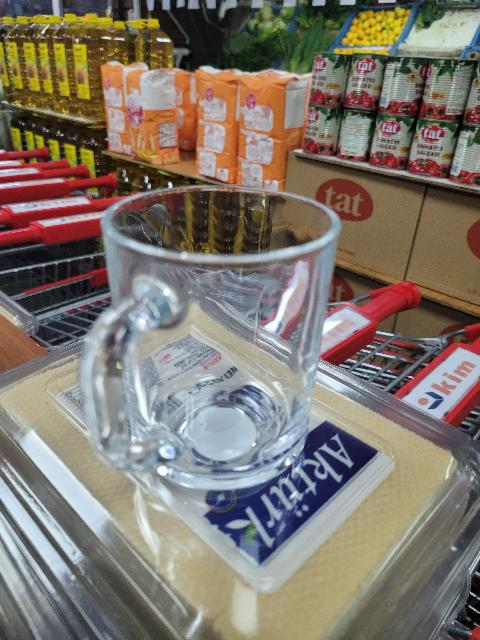Cam: (68, 187, 354, 488)
